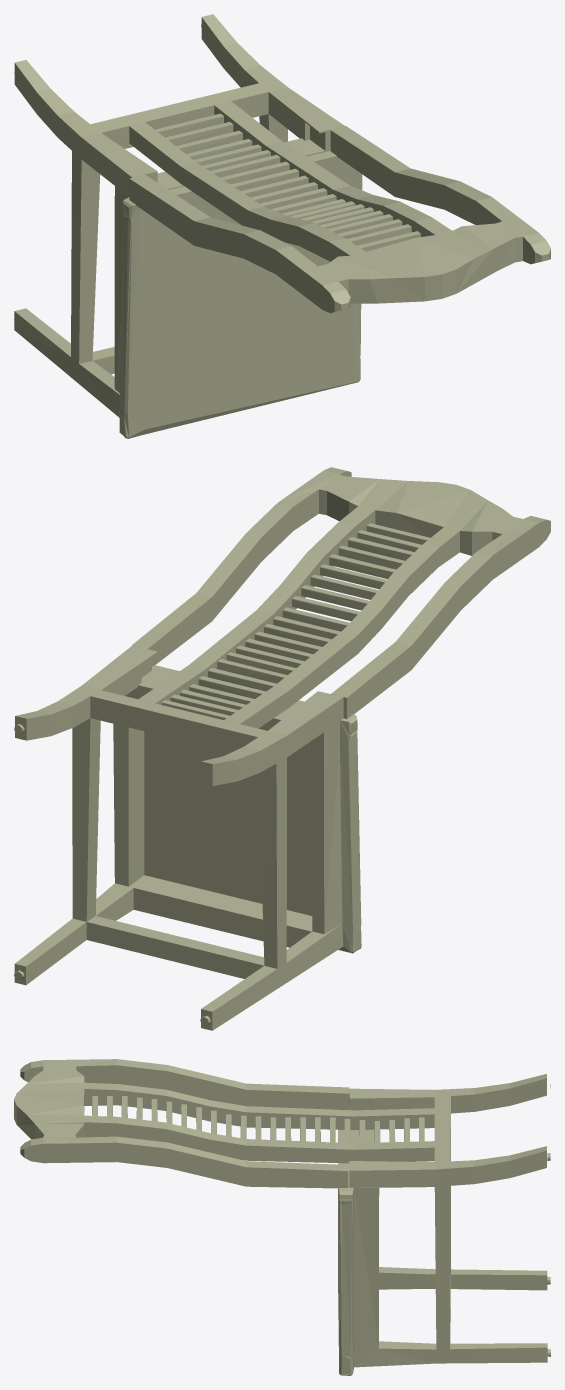
Rendered from tinker.obj.
The picture shows the model from 3 angles, top to bottom: view 1: azimuth 30°, elevation 25°; view 2: azimuth 150°, elevation 25°; view 3: azimuth 270°, elevation 25°; orthographic projection. The views are drawn at different scales.
Parts seen in each view (by area): view 1: obj_0; view 2: obj_0; view 3: obj_0.
Part boxes in pixels (<box>): obj_0: <box>14,14,550,438</box>; obj_0: <box>14,467,550,1030</box>; obj_0: <box>14,1059,550,1375</box>.
Size of the model in its own units: 2.19 by 2.56 by 5.42.
